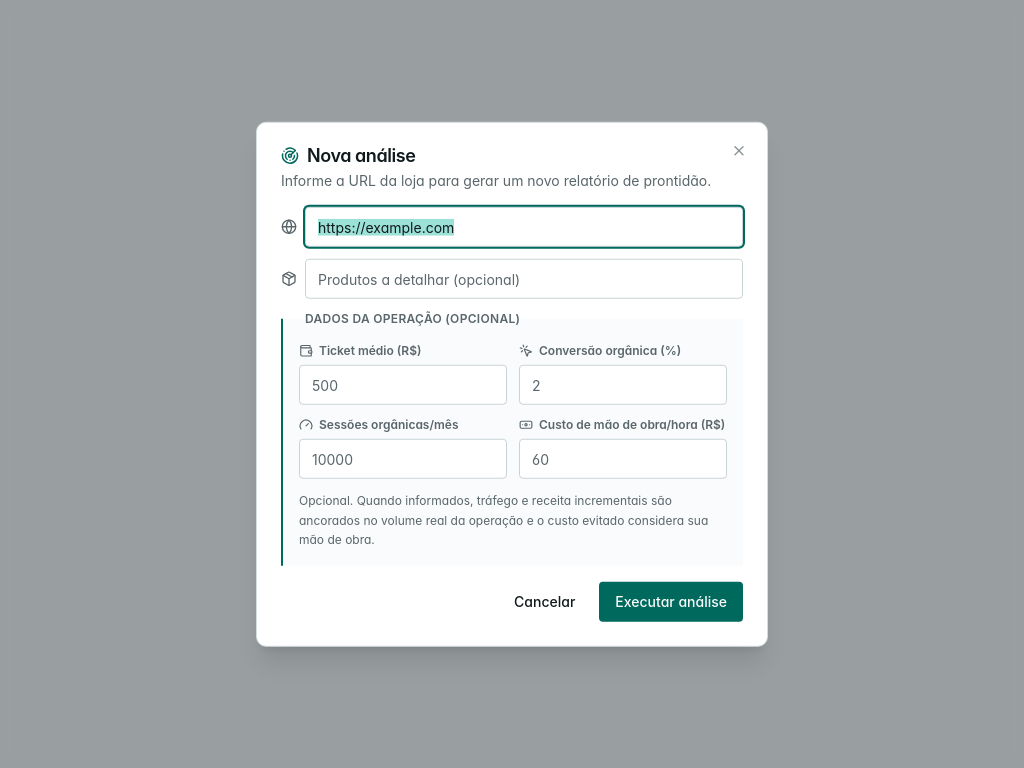
NewAnalysisDialog › exibe mensagem de erro e permite tentar novamente
What coordinates should you click on to do the following:
click the button "Executar análise"
I would click on:
 (671, 601)
Its box is [599,581,743,621].
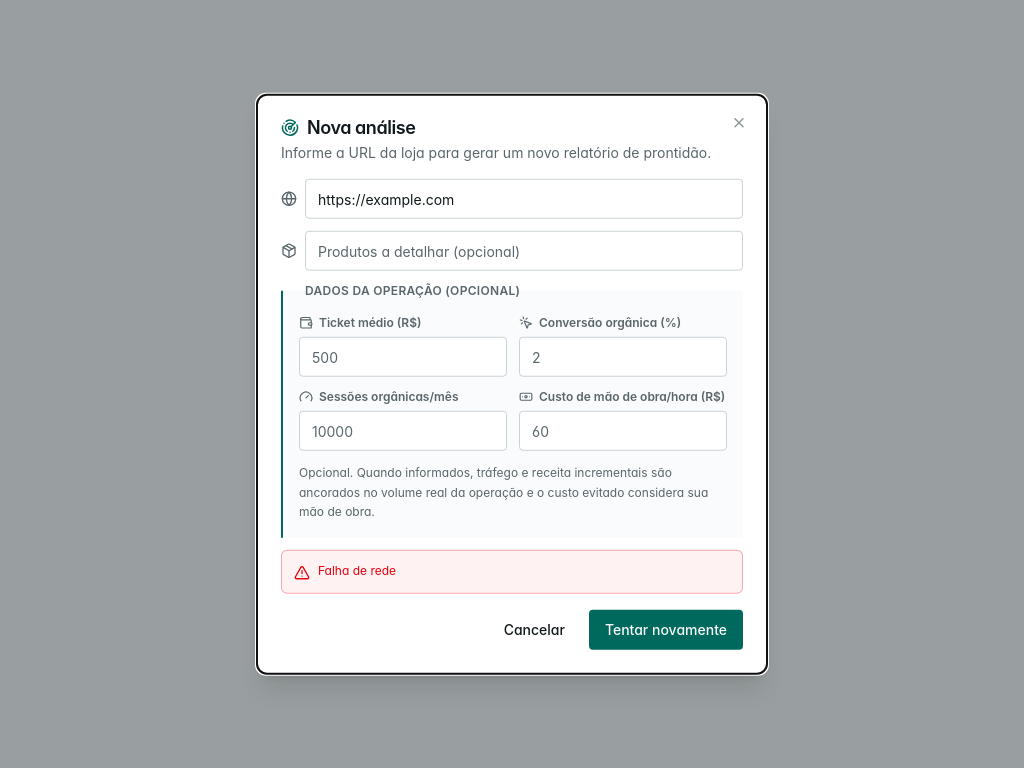
expect the text "Falha de rede" is shown: met, box [281,549,743,593]
expect the button "Tentar novamente" is shown: met, box [589,609,743,649]
